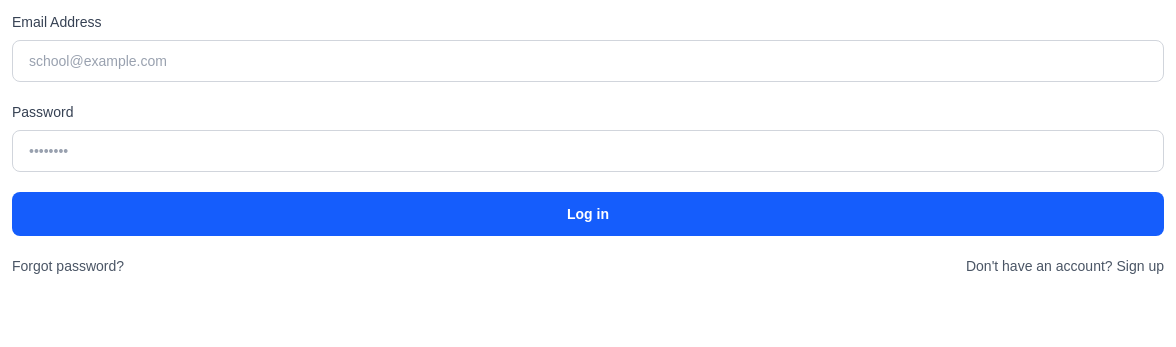
Scenario: LoginForm › shows email validation error on empty submit
What coordinates should you click on to do the following:
click the button "Log in"
I would click on:
 (588, 214)
Its box is [12, 192, 1164, 236].
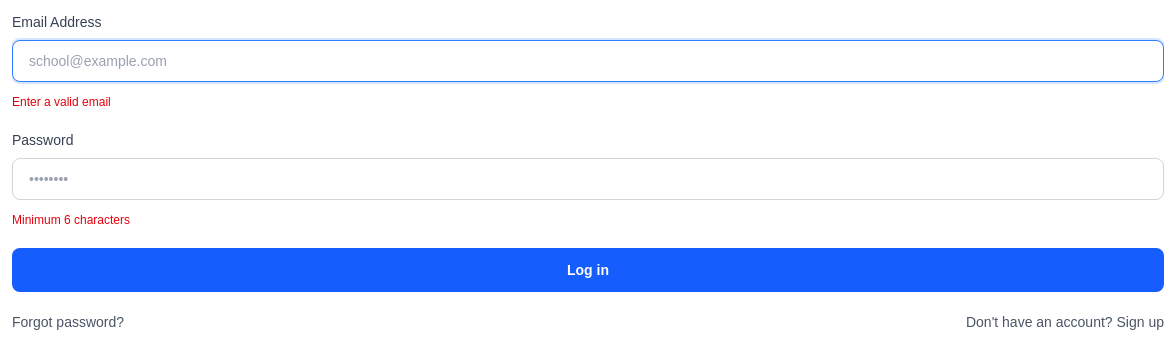
Check: the text "Enter a valid email" is shown, box [12, 95, 111, 109]
